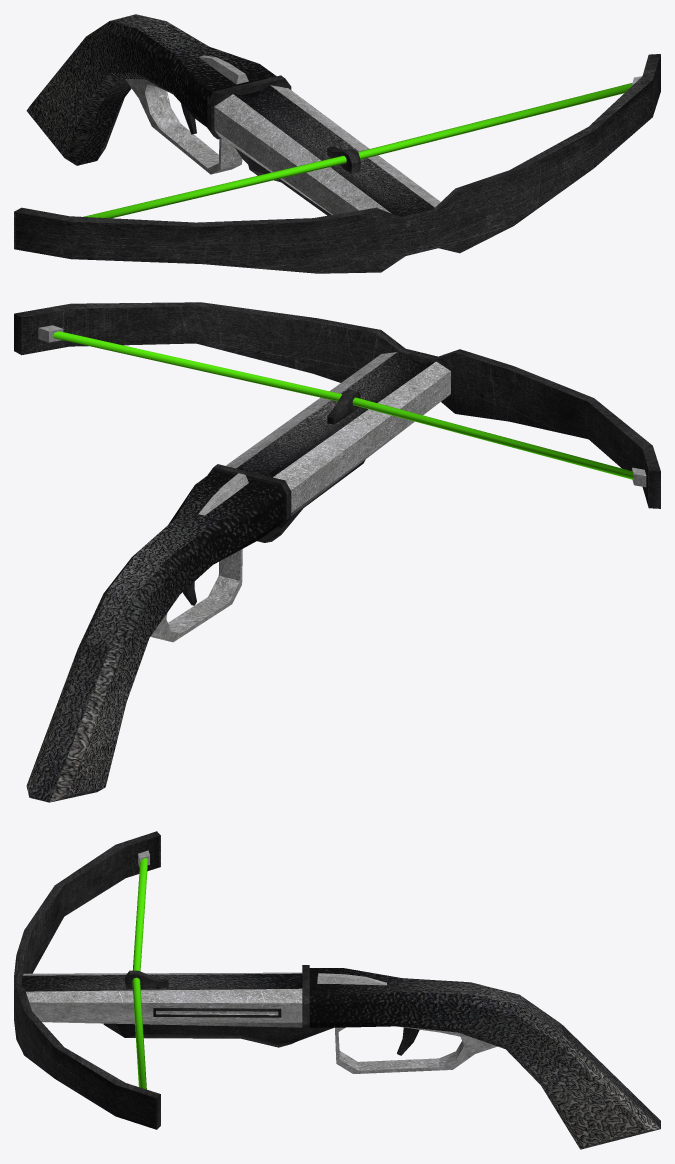
The model's file is Crossbow.dae.
3 renders of one model, top to bottom at view 1: azimuth 30°, elevation 25°; view 2: azimuth 150°, elevation 25°; view 3: azimuth 270°, elevation 25°, orthographic. The views are drawn at different scales.
Parts seen in each view (by area): view 1: Crossbow; view 2: Crossbow; view 3: Crossbow.
Boxes of the visible parts, x1,y1,x2,y2 form: Crossbow: (14,14,660,273); Crossbow: (14,302,660,802); Crossbow: (14,831,660,1149).
Bounding box in the file's own units: 0.488 × 0.4998 × 0.1541.
4 materials, 3 textured.
